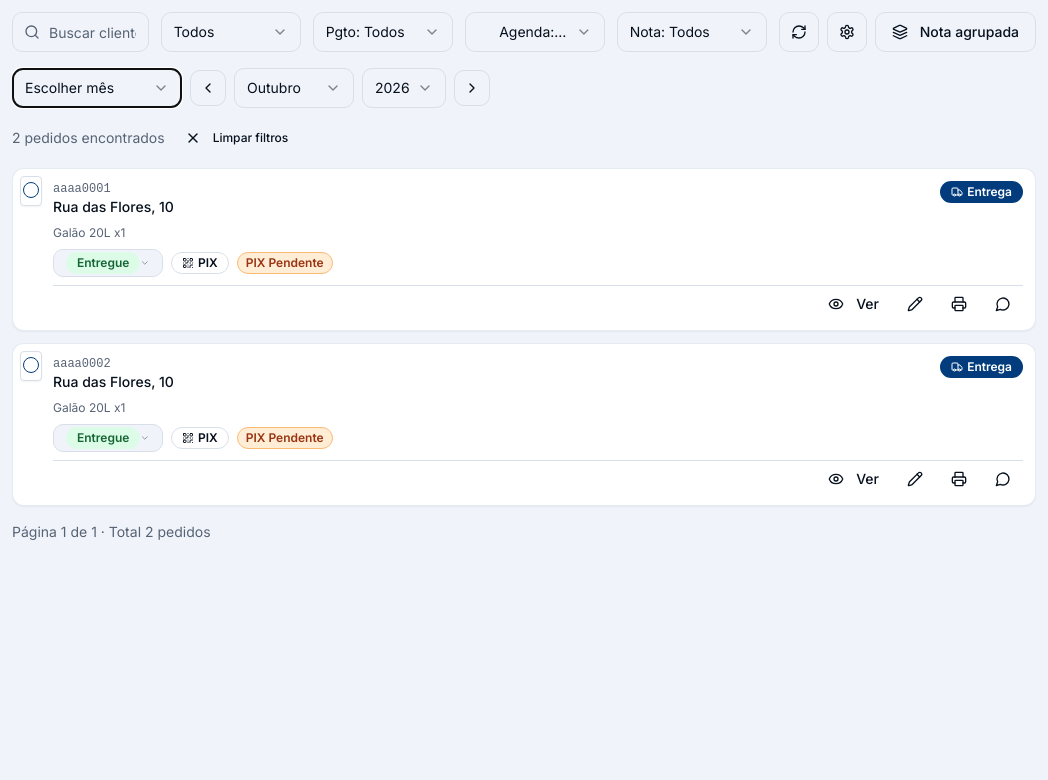
Test: Filtro de período e vínculo de cliente › escolhe qualquer mês, qualquer semana ou um intervalo
Earlier steps of the test are not shown.
Step 1. Click the button titled "Mês anterior" → (208, 88), box [190, 70, 226, 106]
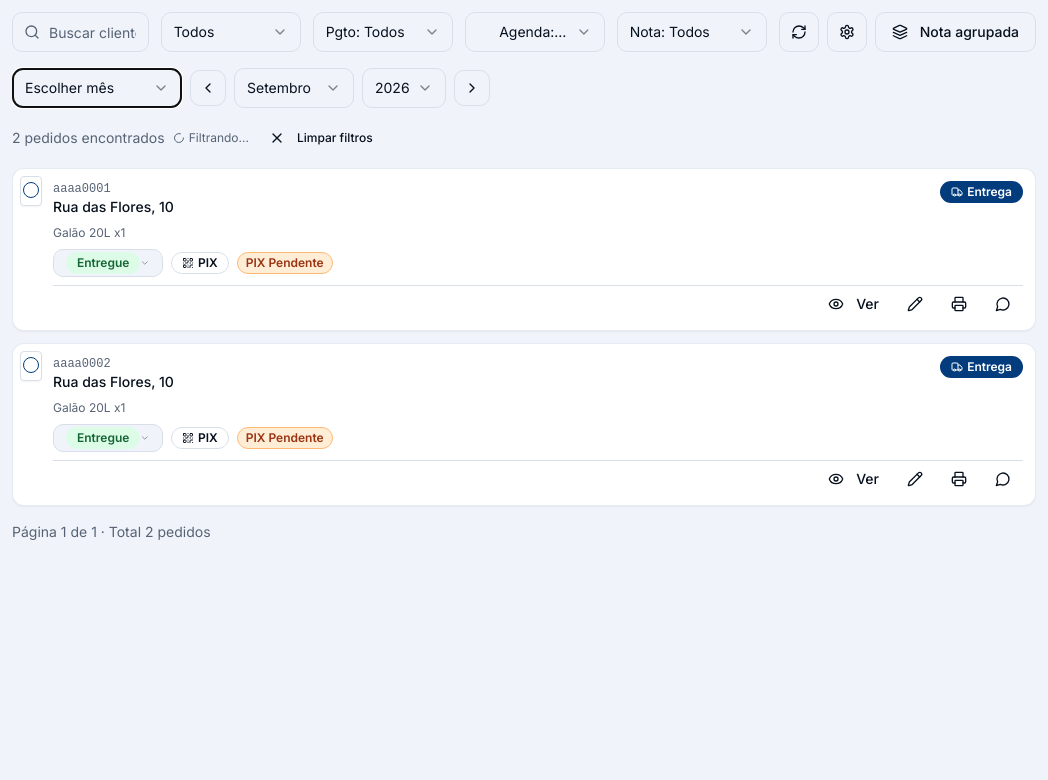
Step 2. Click the button titled "Mês anterior" → (208, 88), box [190, 70, 226, 106]
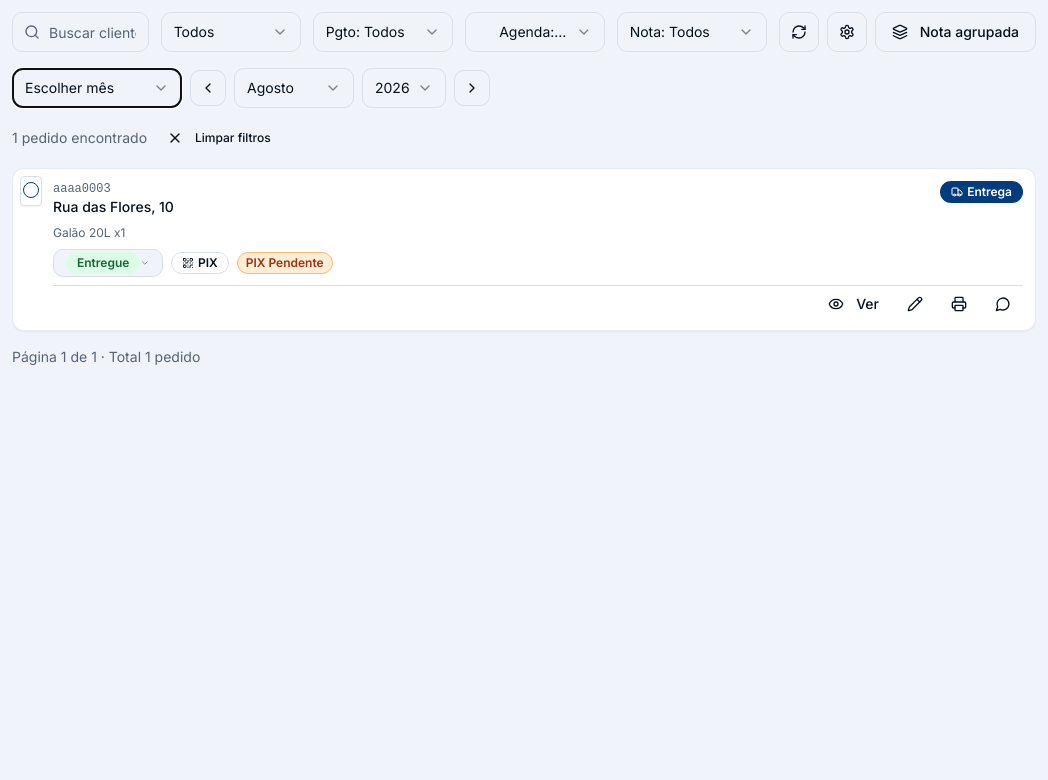
Check: the text "Agosto" is shown, box [247, 78, 294, 98]
